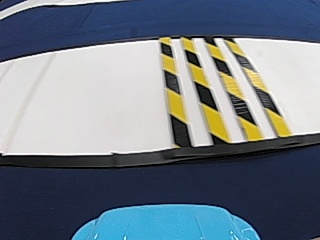bump: (153, 41, 290, 137)
